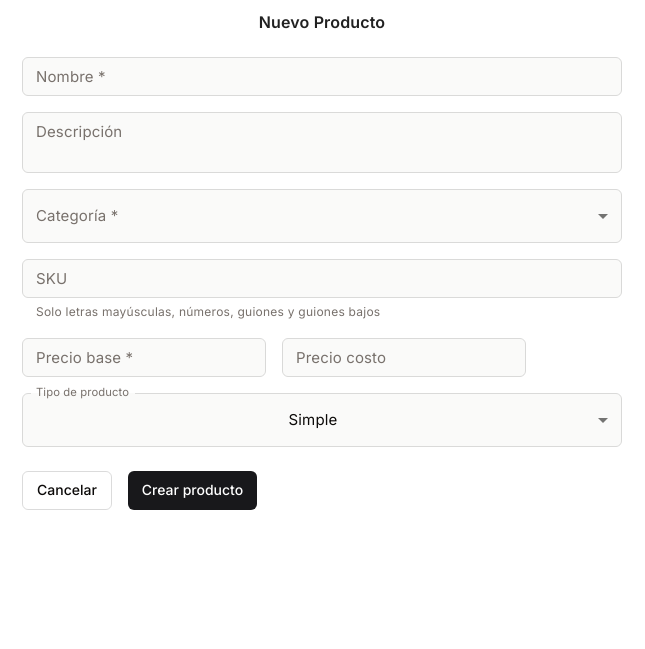
Test: ProductForm — create mode › shows variant fields when type is VARIANT
What coordinates should you click on to do the following:
click the dropdown named "tipo de producto"
I would click on:
 (313, 420)
Its box is [289,410,338,429].
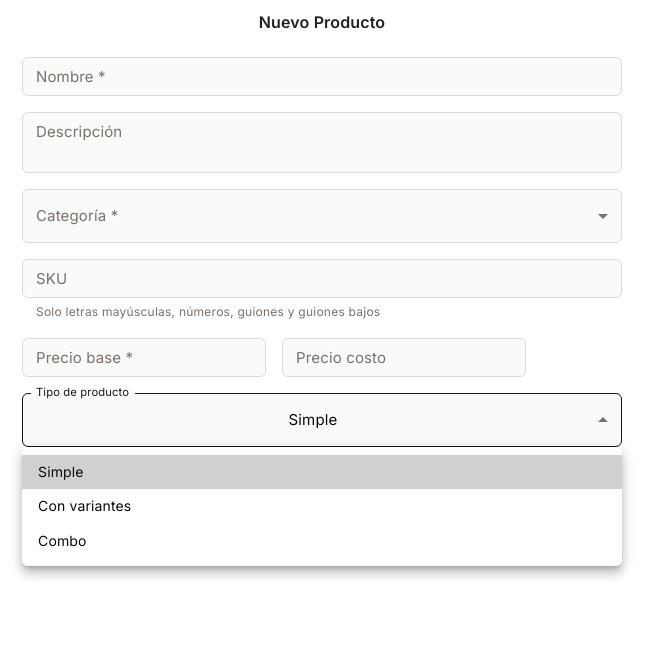
What coordinates should you click on to do the following:
click the option "Con variantes"
I would click on:
 (85, 506)
Its box is [38,497,131,514].
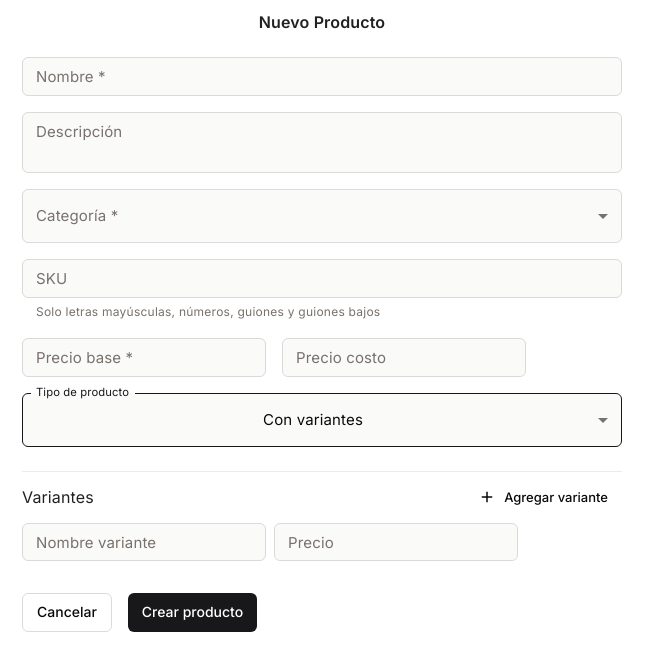
Now the heading "Variantes" is shown, box [22,483,94,511]
Now the button "Agregar variante" is shown, box [466,480,622,515]
